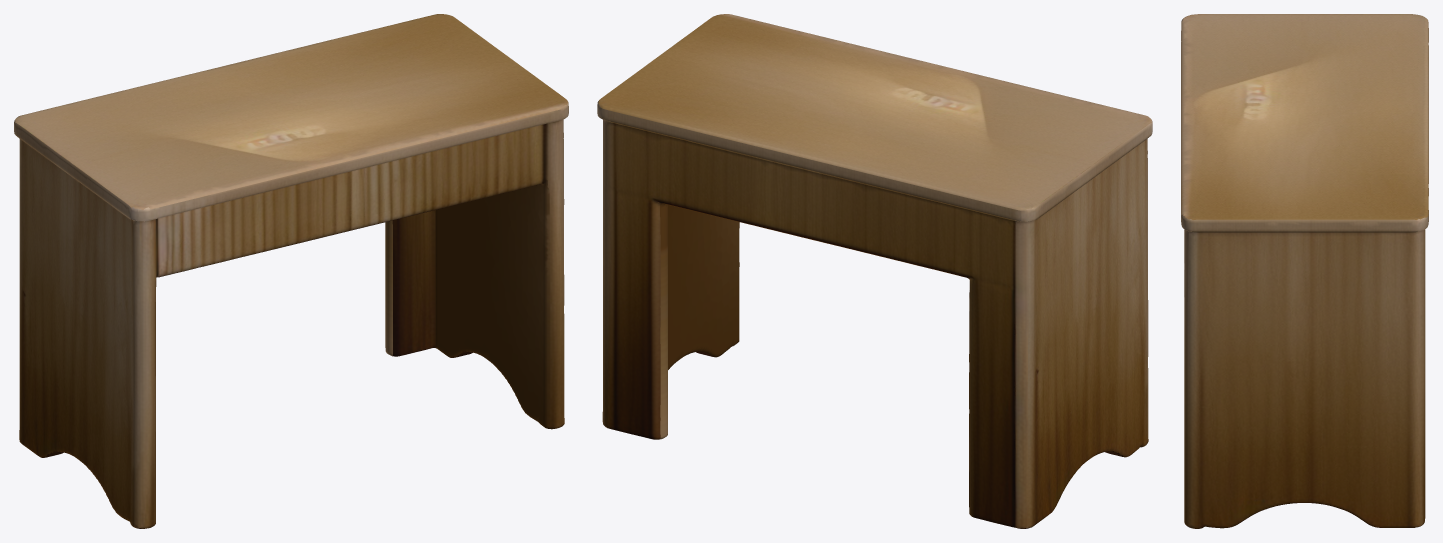
The model's file is desk__desk#1.glb.
3 views of the same model, side by side, from view 1: azimuth 30°, elevation 25°; view 2: azimuth 150°, elevation 25°; view 3: azimuth 270°, elevation 25° (orthographic). The views are drawn at different scales.
Visible parts, largest first — view 1: tmpkck8v5kr.ply; view 2: tmpkck8v5kr.ply; view 3: tmpkck8v5kr.ply.
Part boxes in pixels (x1,y1,x2,y2): tmpkck8v5kr.ply: (14,14,568,528); tmpkck8v5kr.ply: (597,14,1152,528); tmpkck8v5kr.ply: (1181,14,1428,528).
Bounding box in the file's own units: 1.99 × 1.41 × 1.01.
Materials: 1 (1 with a texture image).
